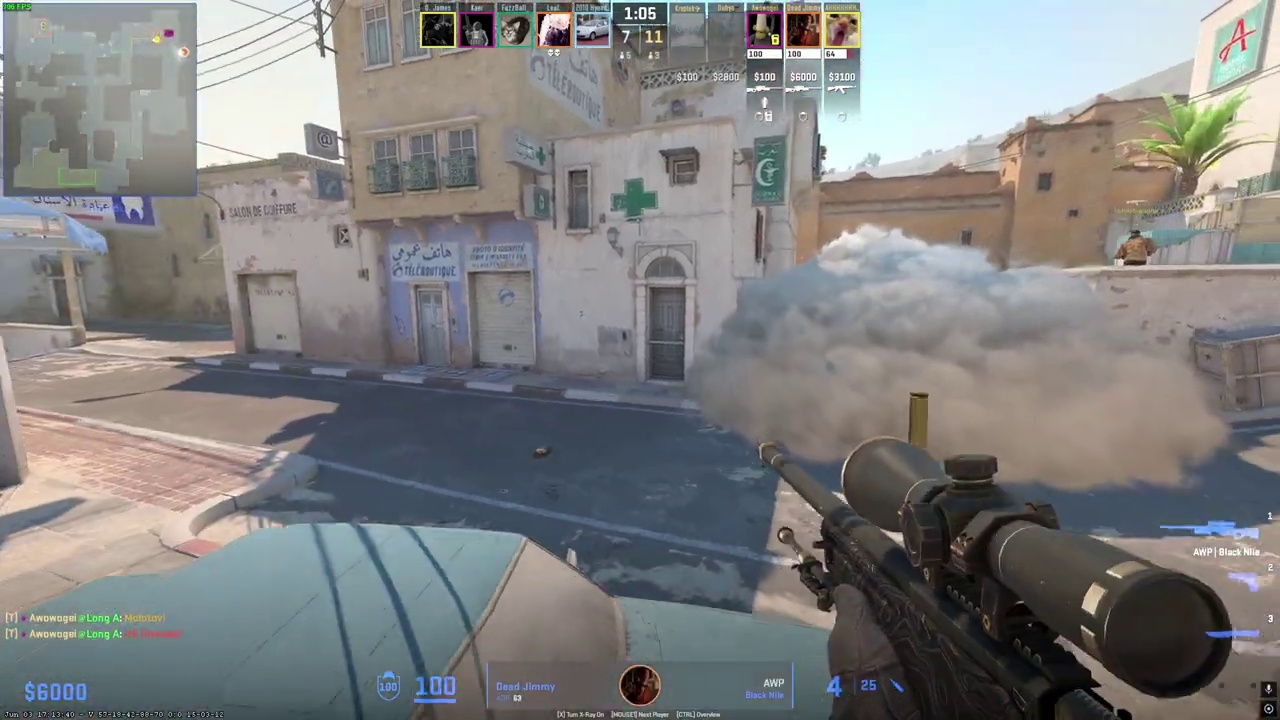Terrorist: (1120, 229, 1150, 265)
